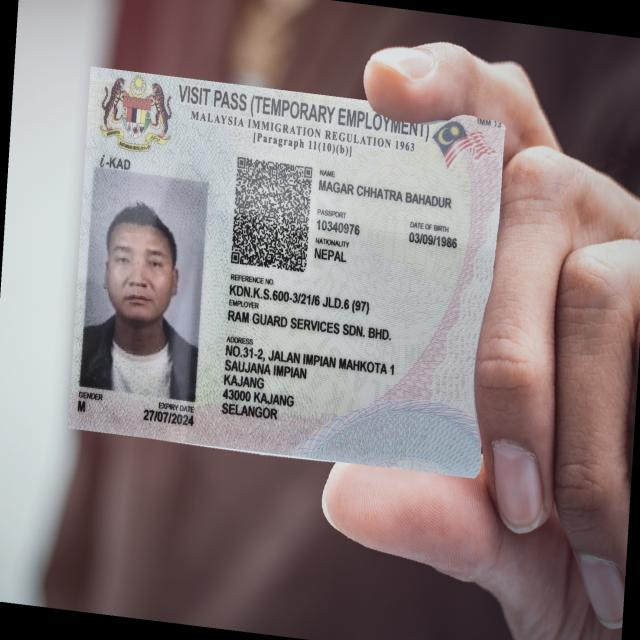ikad-temp: (67, 64, 506, 478)
